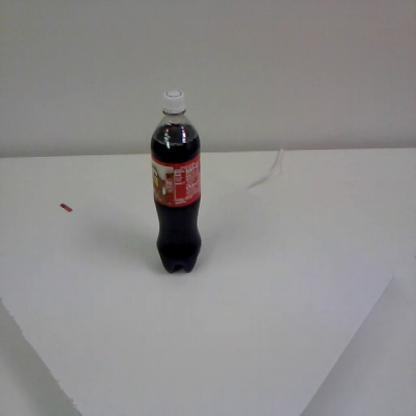bottle: (150, 86, 204, 276)
